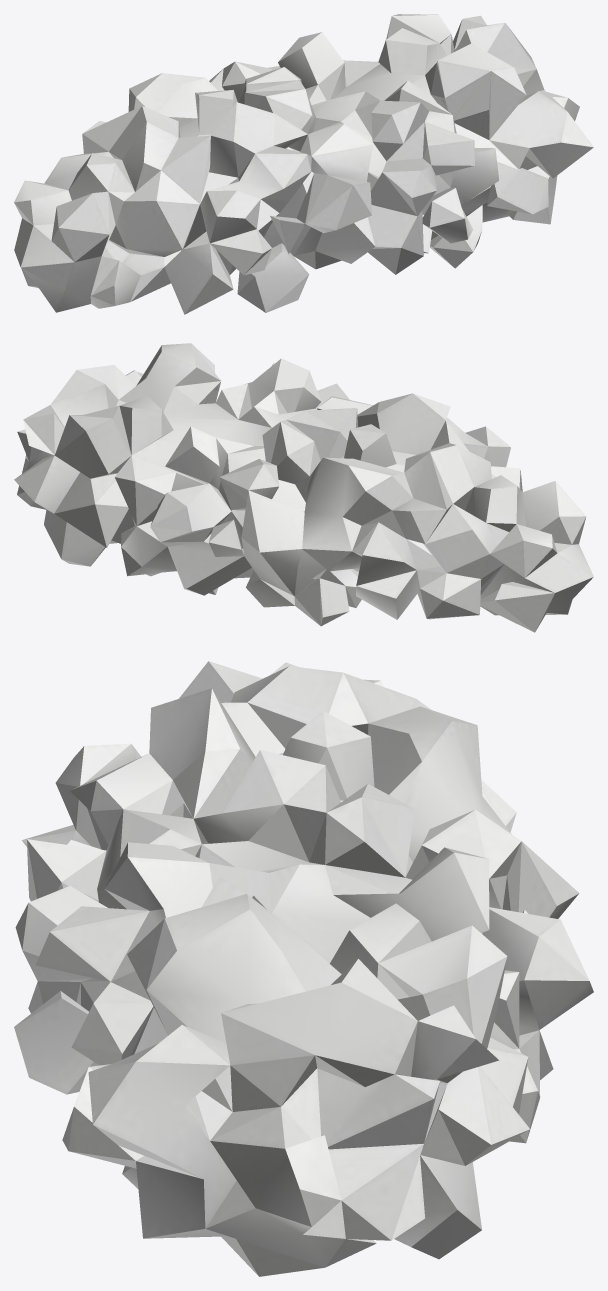
File: cloudB.glb
3 renders of one model, top to bottom at view 1: azimuth 30°, elevation 25°; view 2: azimuth 150°, elevation 25°; view 3: azimuth 270°, elevation 25°, orthographic. The views are drawn at different scales.
Size of the model in its own units: 1.9 by 0.6425 by 0.9808.
Materials: 1 (1 with a texture image).
